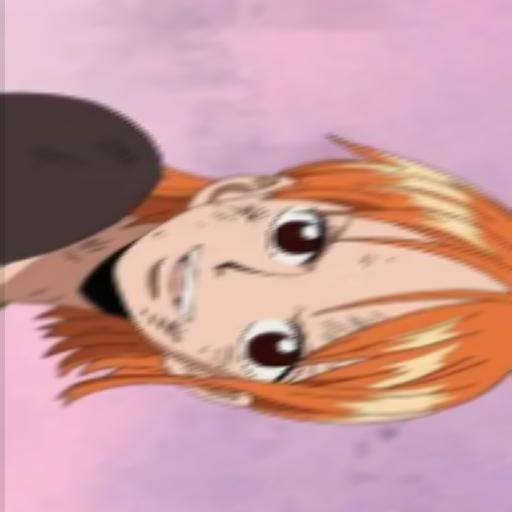Nami: (0, 82, 509, 437)
